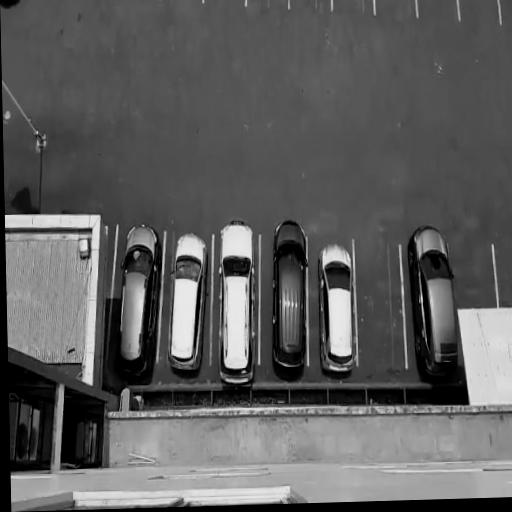Car: (114, 224, 167, 385), (409, 225, 461, 380), (164, 228, 212, 388), (218, 219, 259, 389), (273, 217, 312, 380), (318, 241, 356, 378)
Space Available: (353, 239, 409, 368), (448, 238, 498, 310), (492, 240, 512, 308), (329, 0, 375, 22), (417, 0, 459, 22), (457, 0, 500, 21), (375, 0, 417, 21), (288, 0, 332, 13), (157, 0, 204, 12), (203, 0, 247, 12), (248, 0, 290, 11)
